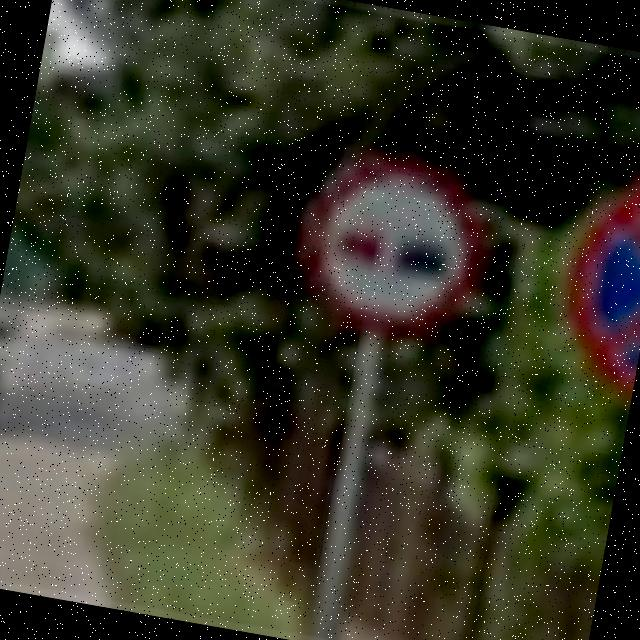Zakaz wyprzedzania: (280, 140, 500, 352)
Zakaz zatrzymywania sie: (545, 157, 640, 404)
